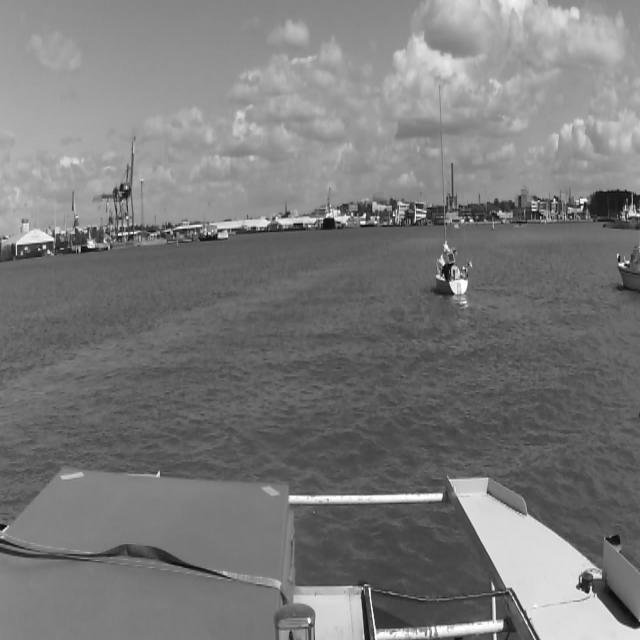ship: (436, 83, 470, 296), (614, 241, 640, 293), (618, 186, 640, 223), (323, 188, 335, 228)
